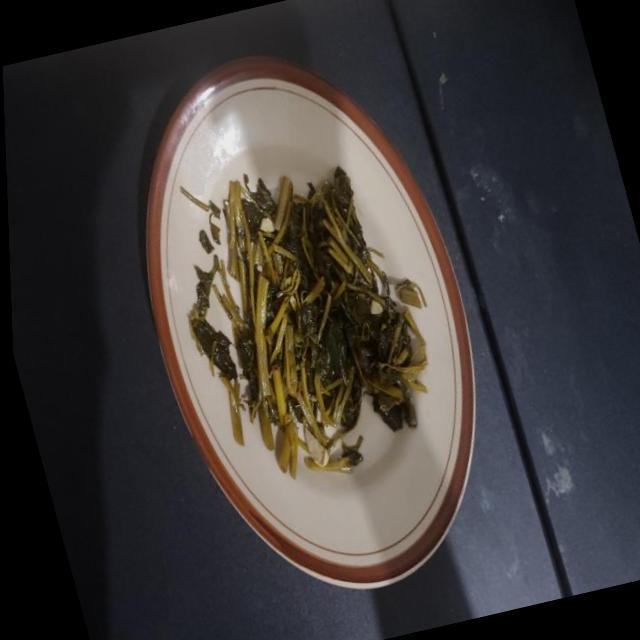tumis_kangkung: (214, 167, 426, 478)
